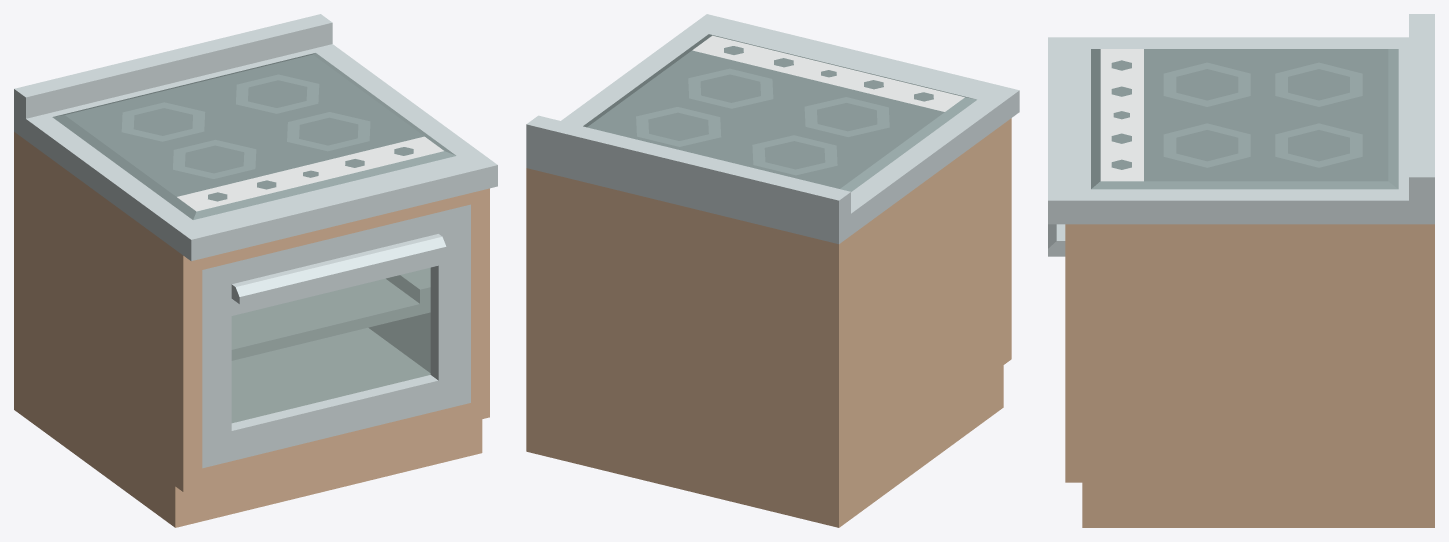
Rendered from kn-kitchen-stove-electric.glb.
3 views of the same model, side by side, from view 1: azimuth 30°, elevation 25°; view 2: azimuth 150°, elevation 25°; view 3: azimuth 270°, elevation 25° (orthographic). The views are drawn at different scales.
Visible parts, largest first — view 1: kitchenStoveElectric(Clone); view 2: kitchenStoveElectric(Clone); view 3: kitchenStoveElectric(Clone).
Part boxes in pixels (left/top/right/bottom): kitchenStoveElectric(Clone): left=14, top=14, right=497, bottom=527; kitchenStoveElectric(Clone): left=526, top=14, right=1019, bottom=527; kitchenStoveElectric(Clone): left=1048, top=14, right=1434, bottom=527.
Size of the model in its own units: 1 by 1 by 1.
